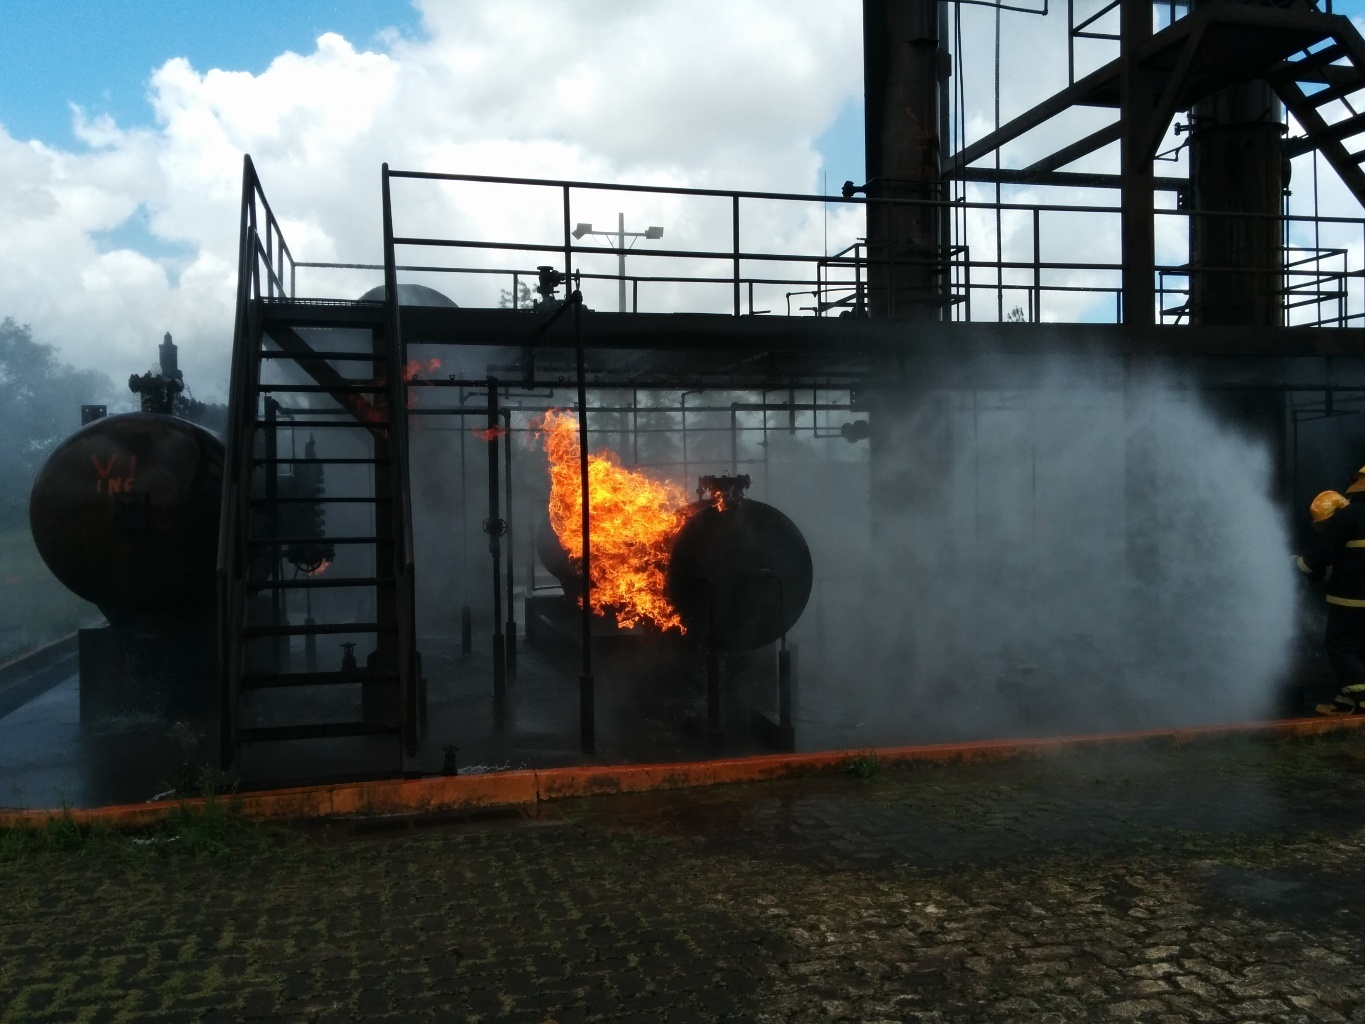fire: (535, 410, 722, 631)
